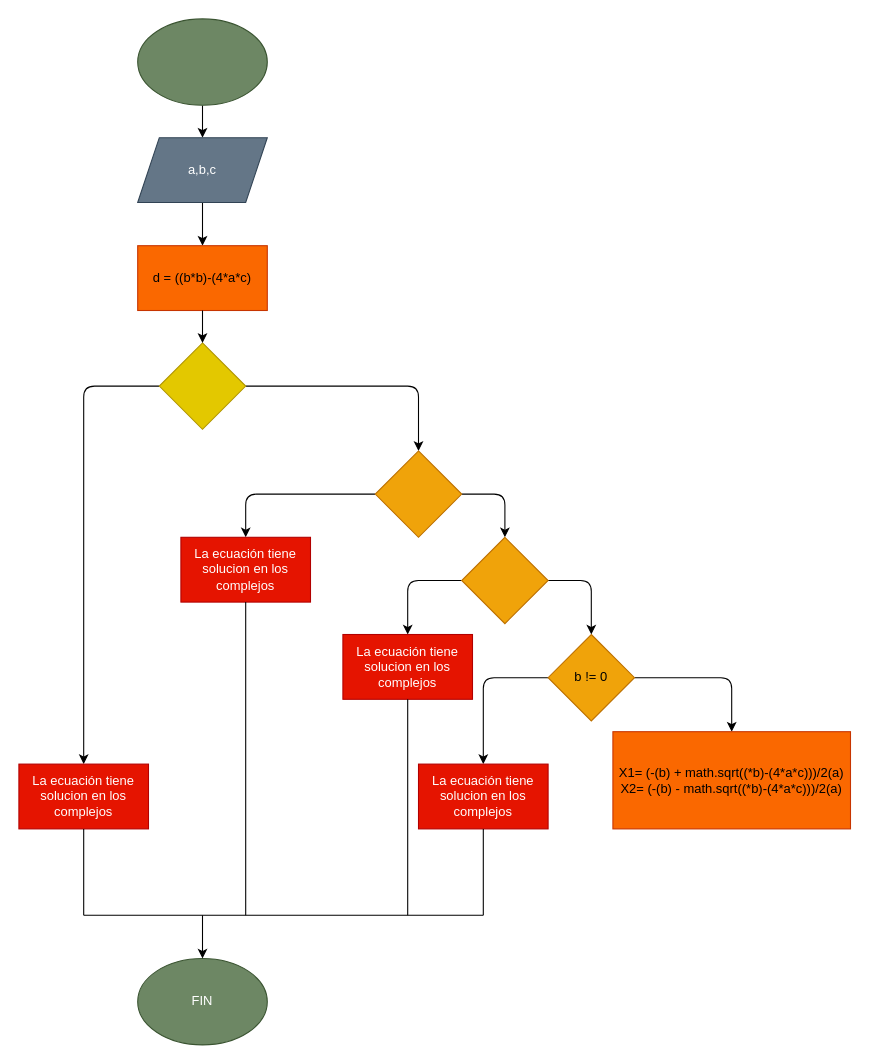
The diagram is 869 pixels wide and 1064 high, and some of its shapes have lost their labels. The shapes that lost their labels are listed below. From the top down, each one's centre as x and y in pixels, then its label:
[202,61]: INICIO
[202,385]: d < 0
[418,493]: d > 0
[504,580]: a != 0
